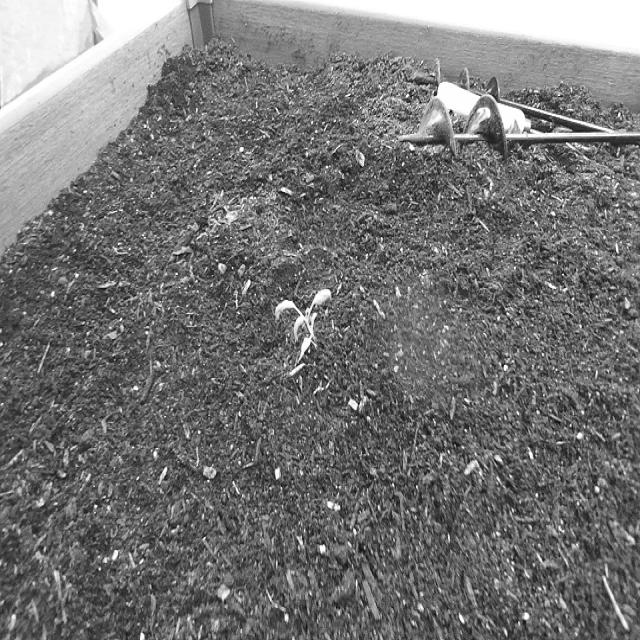Healthy: (274, 282, 334, 364)
